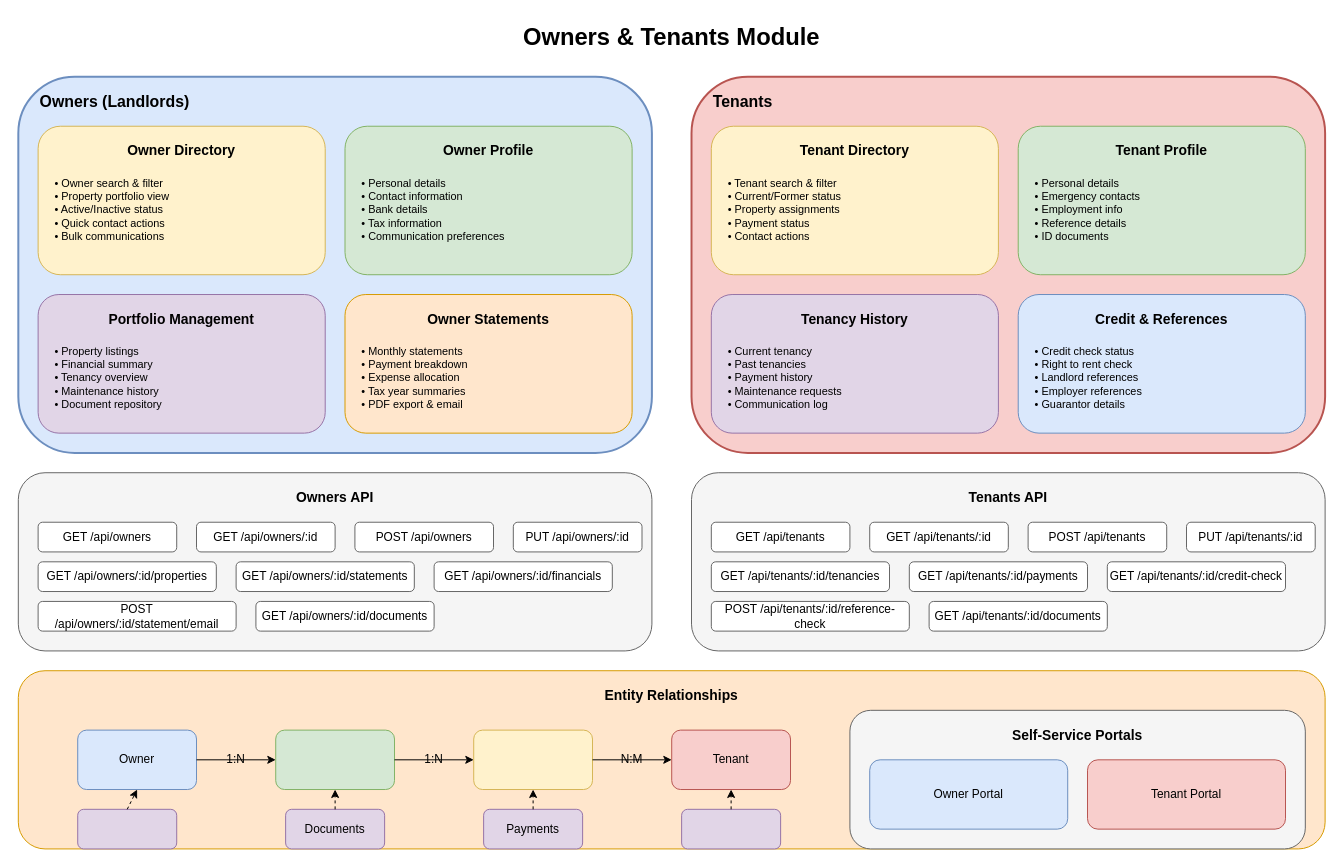
The diagram is 1342 pixels wide and 866 high, and some of its shapes have lost their labels. The centre of each missing label's shape, as x and y in pixels:
"Credit Check" belongs at point (731, 828).
"Property" belongs at point (335, 759).
"Statement" belongs at point (127, 828).
"Tenancy" belongs at point (533, 759).
